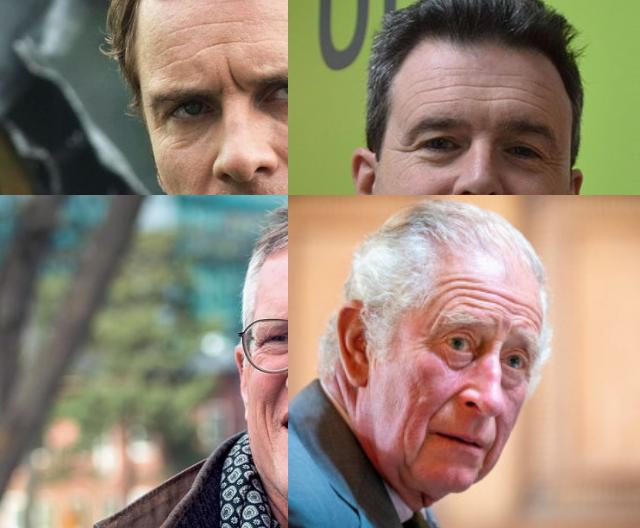crows_feet: (150, 116, 174, 146), (396, 137, 420, 159), (540, 150, 560, 176)
forehead: (452, 74, 486, 108), (410, 80, 444, 110), (492, 74, 522, 108), (184, 16, 248, 31), (526, 76, 550, 114), (496, 290, 526, 320), (202, 33, 250, 49), (468, 280, 492, 311), (444, 274, 464, 306)
frown_line: (222, 61, 248, 94)
gummy_smile: (430, 383, 458, 419), (265, 371, 288, 409), (487, 414, 501, 454)
masseter: (249, 402, 277, 442), (394, 424, 410, 472)
sad_smile: (411, 428, 425, 456)
